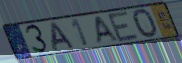1: (71, 17, 90, 48)
3: (23, 23, 49, 55)
A: (50, 21, 77, 53), (94, 15, 120, 46)
E: (106, 10, 141, 43)
O: (132, 7, 159, 40)
